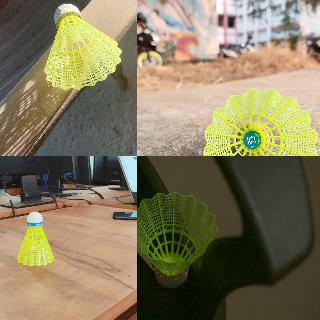shuttlecock: (202, 86, 318, 155), (137, 192, 218, 287), (44, 3, 120, 89), (16, 210, 54, 266)
